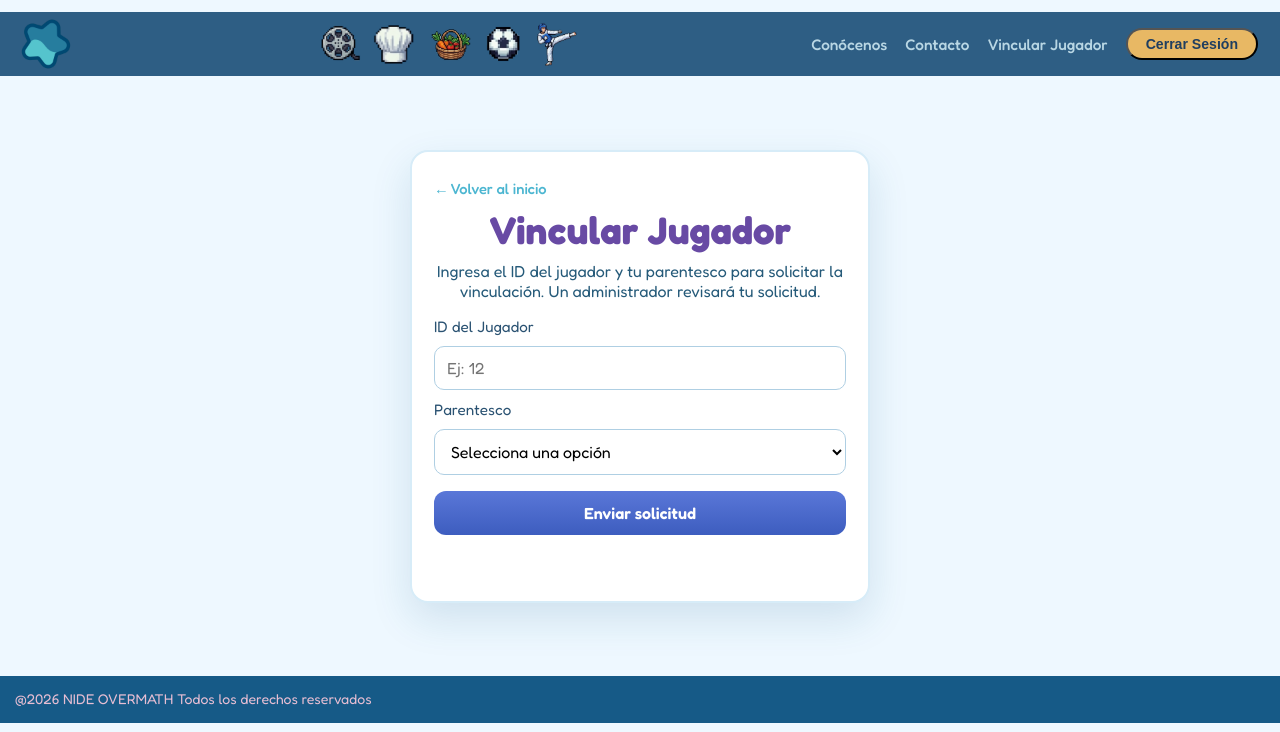
SolicitudVinculacionPage › muestra error si el ID del jugador es inválido (0)
Type "0" into the number field labelled "ID del Jugador".
click(640, 368); type("0")  # box [434,346,846,390]
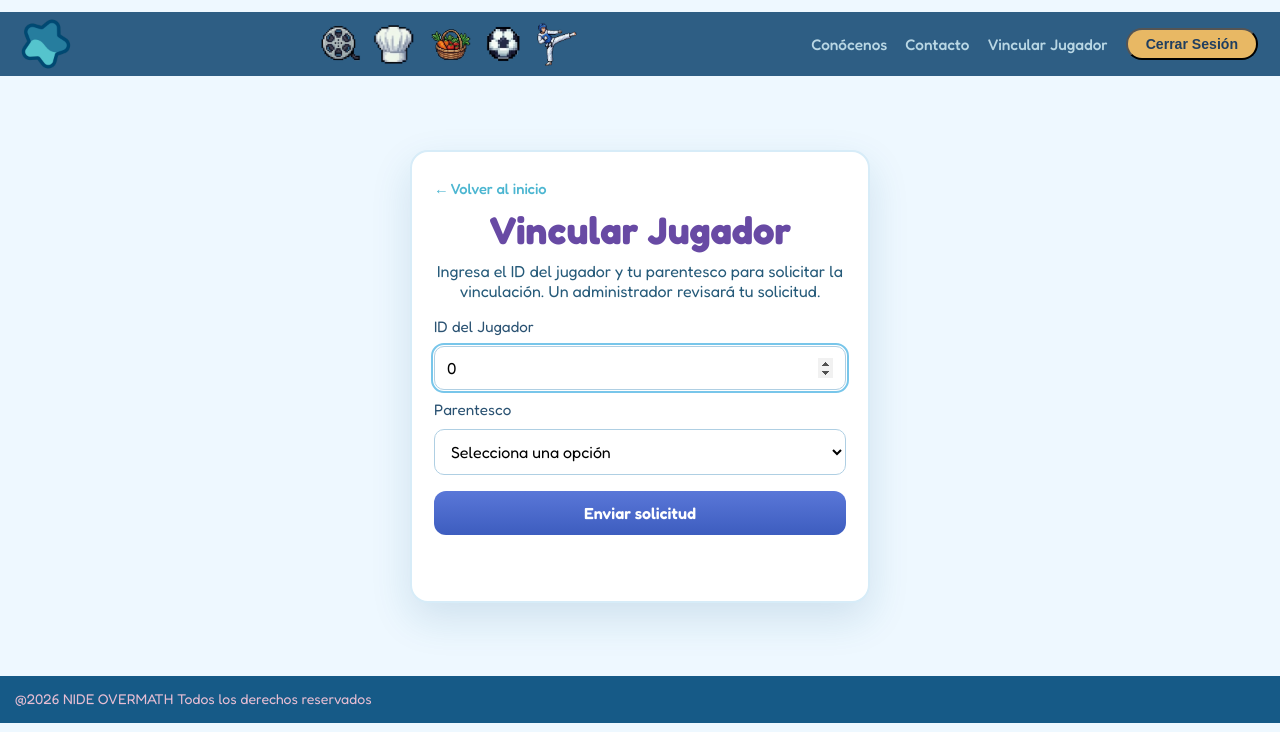
Select "Padre" in the dropdown labelled "Parentesco" at {"x": 640, "y": 452}, box [434,428,846,474]
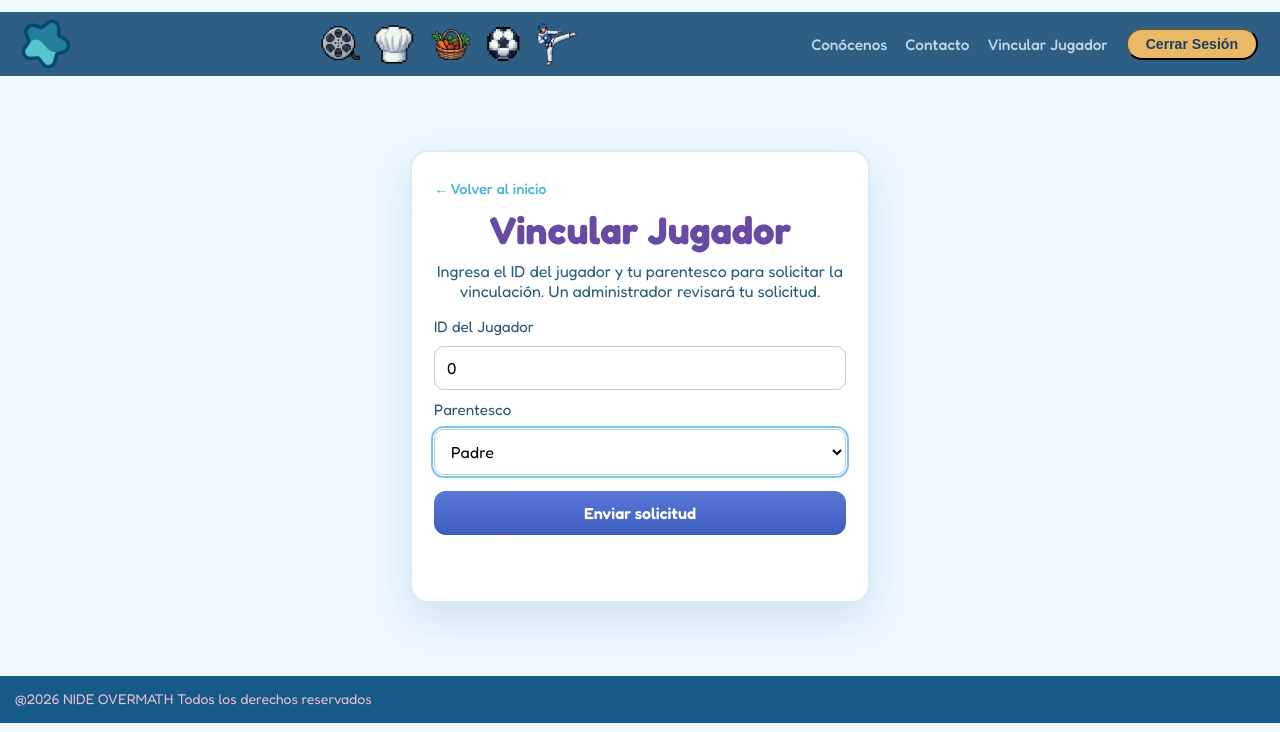
Click the button "Enviar solicitud".
click(640, 512)  # box [434,490,846,534]
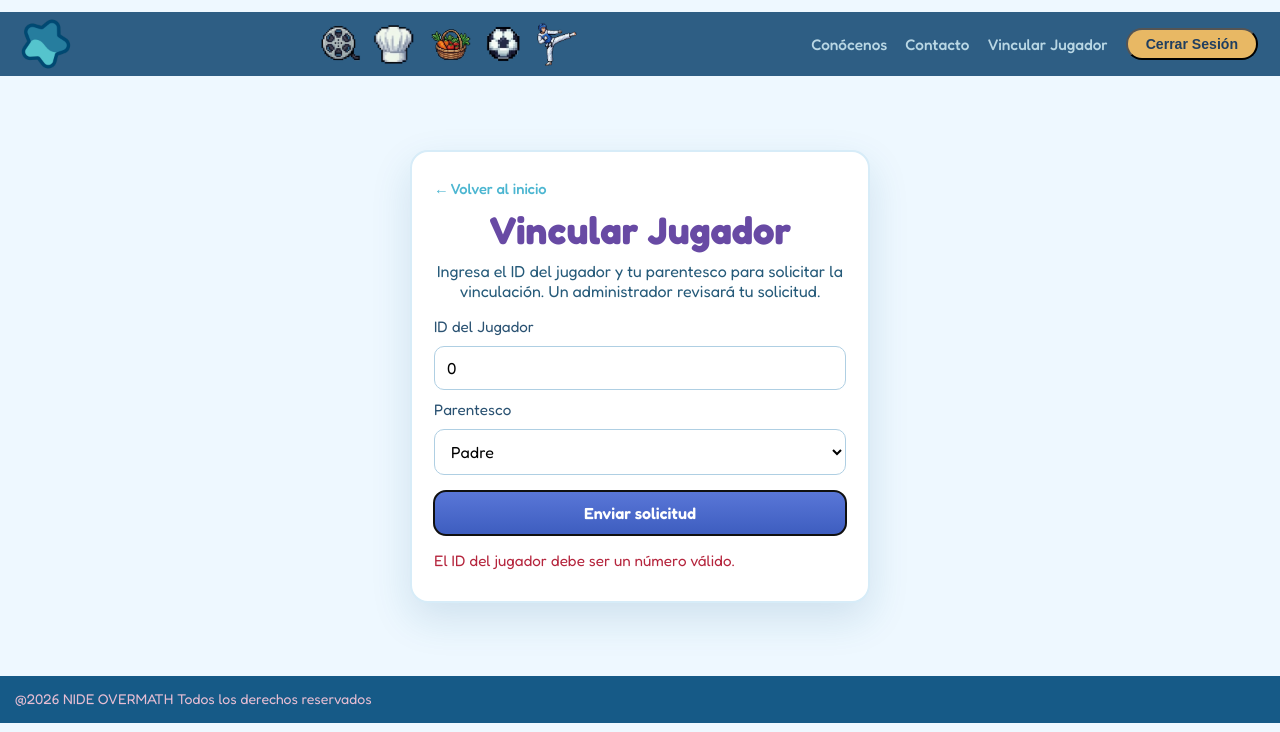
Check: the message reads "El ID del jugador debe ser un número válido.", box [434,550,735,570]
